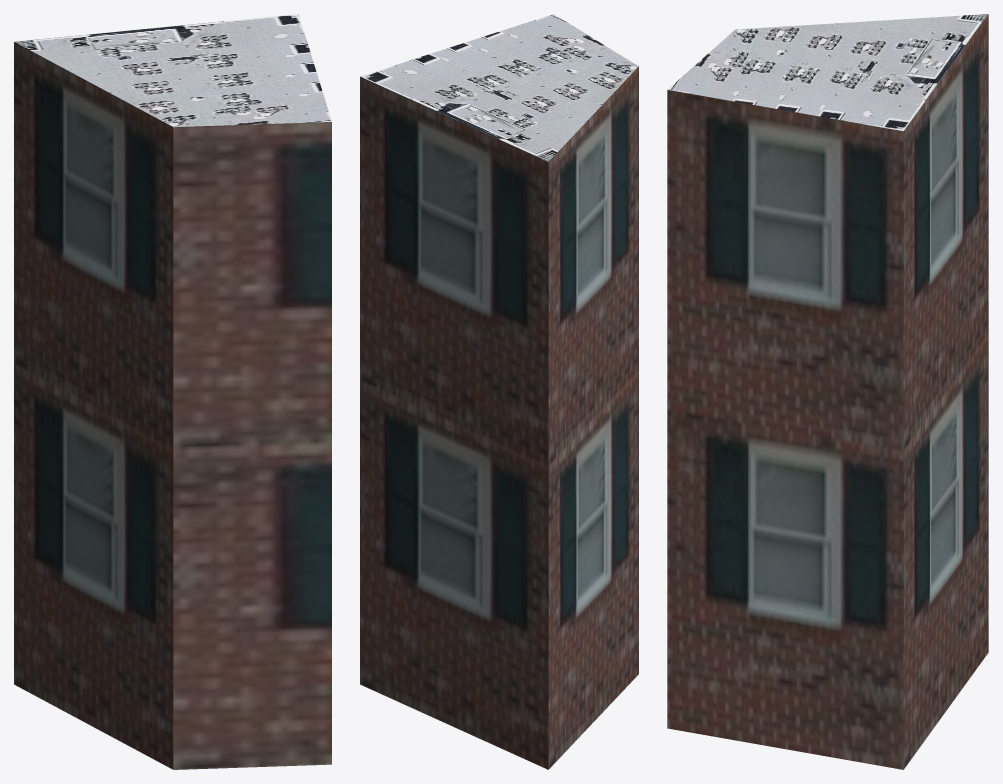
File: ResTex__3098.fbx
3 renders of one model, left to right at view 1: azimuth 30°, elevation 25°; view 2: azimuth 150°, elevation 25°; view 3: azimuth 270°, elevation 25°, orthographic. The views are drawn at different scales.
Parts seen in each view (by area): view 1: CityEngineMaterial_14_m, CityEngineMaterial_2_m; view 2: CityEngineMaterial_14_m, CityEngineMaterial_2_m; view 3: CityEngineMaterial_14_m, CityEngineMaterial_2_m.
Part boxes in pixels (<box>): CityEngineMaterial_14_m: <box>14,42,331,769</box>; CityEngineMaterial_2_m: <box>14,14,331,127</box>; CityEngineMaterial_14_m: <box>360,66,638,769</box>; CityEngineMaterial_2_m: <box>360,14,638,161</box>; CityEngineMaterial_14_m: <box>667,14,988,769</box>; CityEngineMaterial_2_m: <box>667,14,988,131</box>.
Bounding box in the file's own units: 2.36 × 6 × 2.73.
2 materials, 2 textured.
